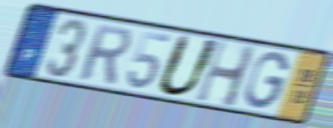3: (44, 16, 88, 81)
5: (126, 29, 173, 90)
G: (243, 50, 291, 111)
H: (193, 37, 260, 111)
R: (77, 22, 133, 87)
U: (154, 32, 223, 99)
